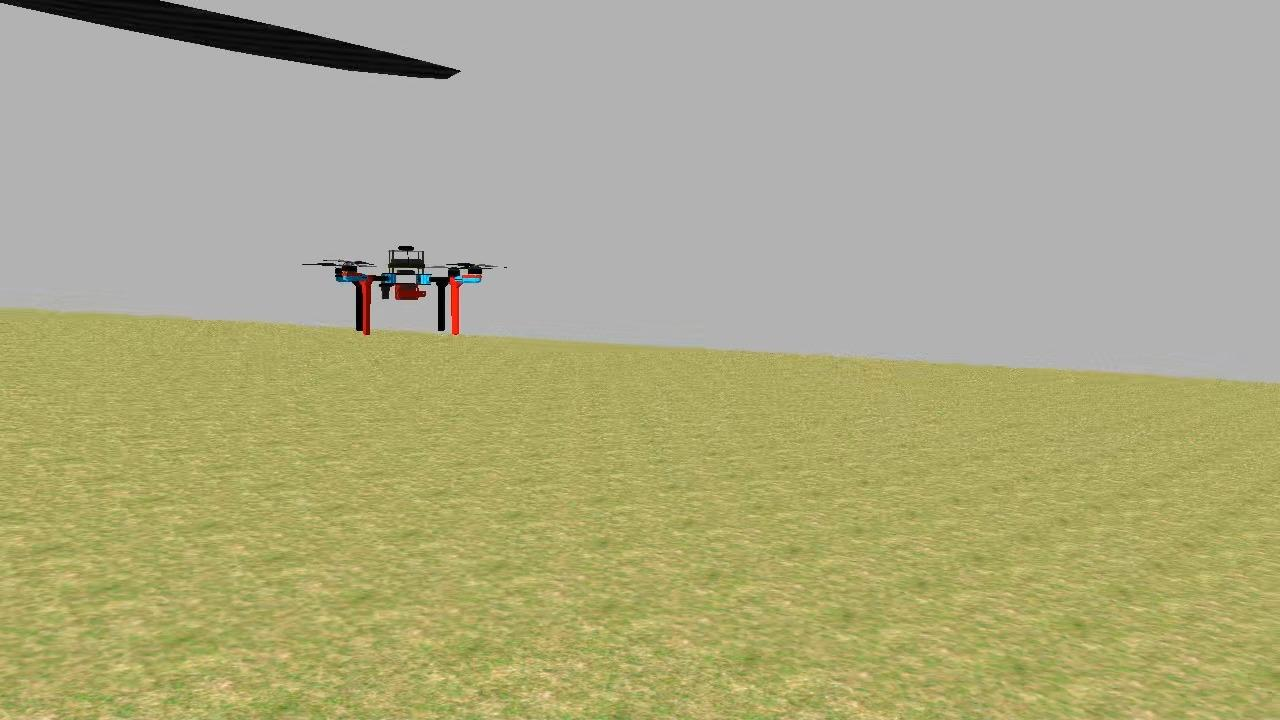UAV: (326, 237, 490, 347)
